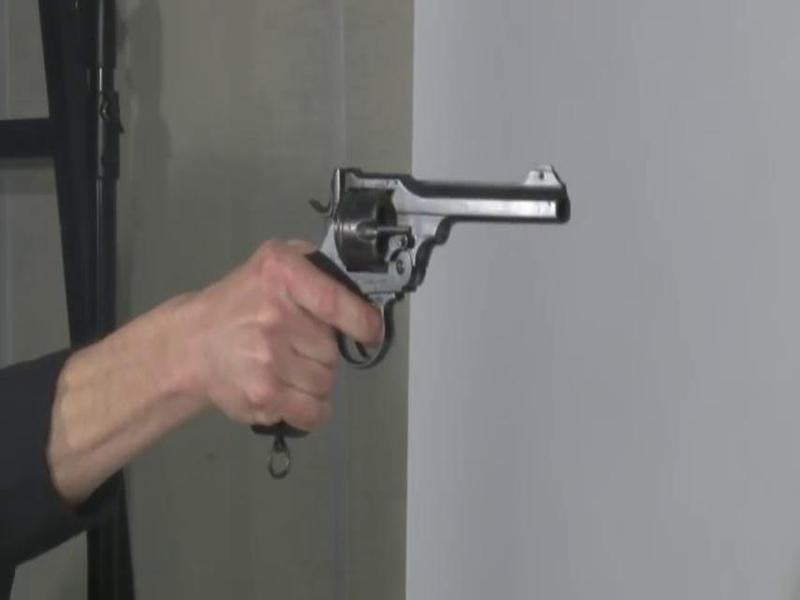Revolver: (257, 153, 611, 419)
